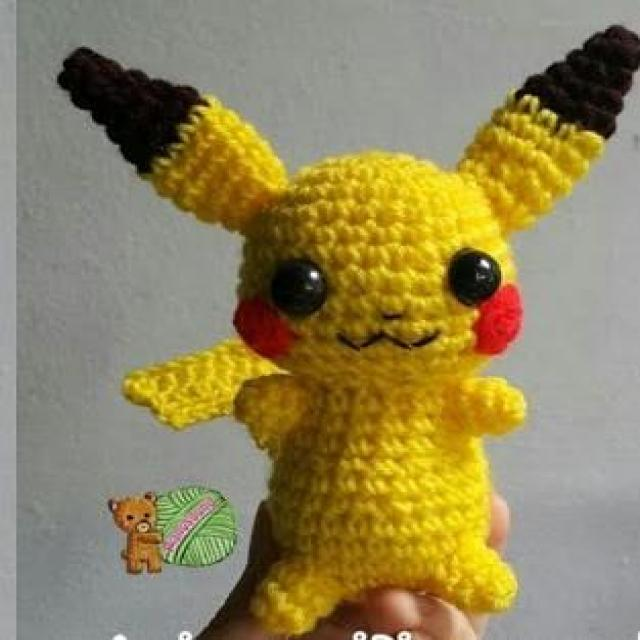pikachu: (55, 22, 640, 638)
